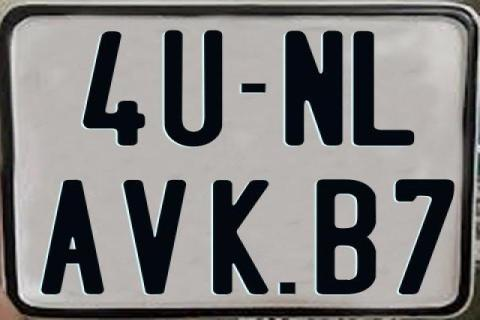0: (84, 29, 146, 147), (395, 179, 455, 299)
A: (39, 180, 103, 298)
B: (317, 178, 377, 294)
K: (212, 179, 272, 295)
L: (351, 30, 416, 146)
N: (282, 28, 345, 145)
U: (161, 31, 225, 149)
V: (122, 178, 189, 298)
